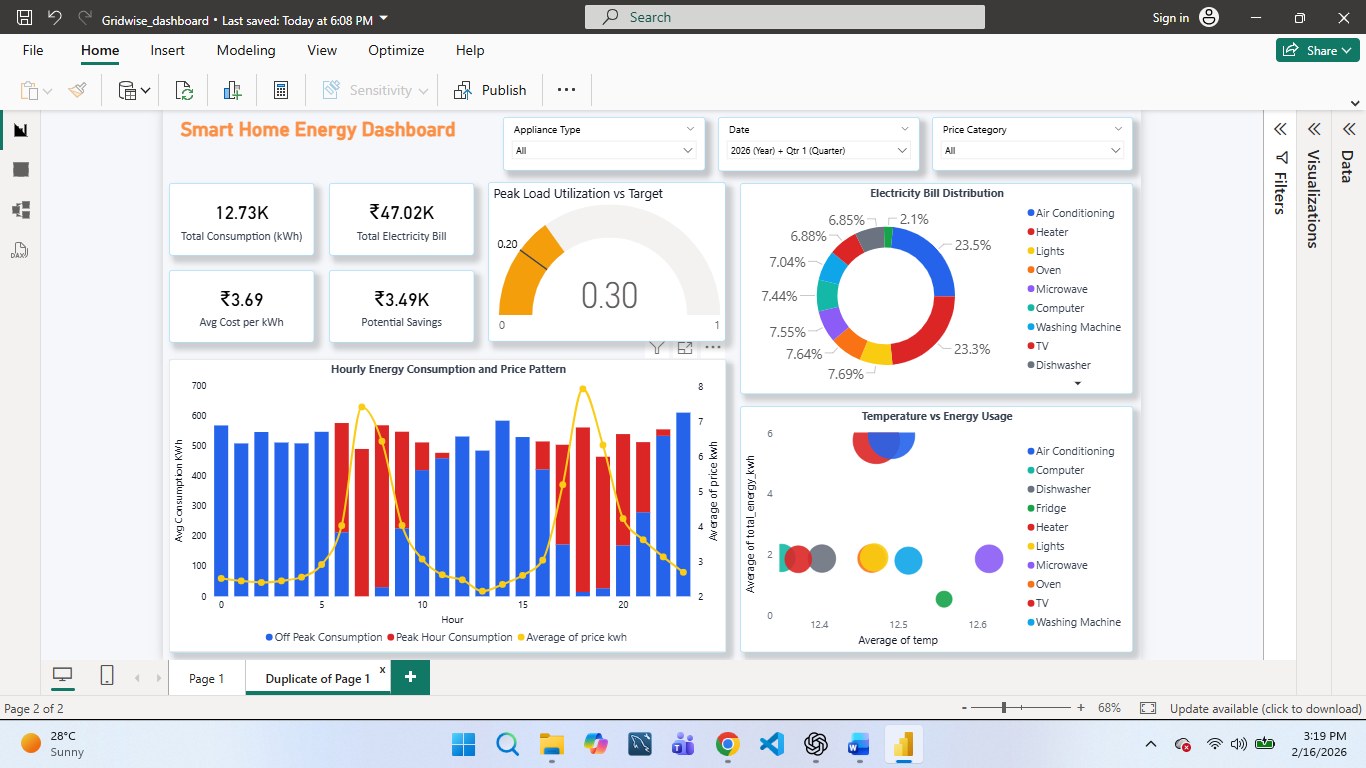

The page's visual inventory and layout, read from the dashboard file:
{"tool":"powerbi","page":{"name":"Duplicate of Page 1","canvas":[1440,810],"ordinal":1},"visuals":[{"type":"shape","box":[8.8,0,615.6,86.9],"z":0},{"type":"card","fields":{"Values":["Key Measure.Total Electricity Bill"]},"box":[243.9,107.1,214,107.1],"z":1000},{"type":"card","fields":{"Values":["Key Measure.Total Consumption"]},"box":[8.6,107.1,214.3,107.1],"z":2000},{"type":"card","fields":{"Values":["Key Measure.Potential Savings New"]},"box":[244.6,234.9,213.8,106.9],"z":3000},{"type":"textbox","box":[20.6,5.9,453.6,44.2],"z":4000},{"type":"slicer","fields":{"Values":["energy_gridwise gridwise_final_report.Appliance_Type"]},"box":[500.6,9.7,298.1,79.4],"z":5000},{"type":"lineStackedColumnComboChart","title":"Hourly Energy Consumption and Price Pattern","fields":{"Category":["energy_gridwise gridwise_final_report.hour_0_23"],"Y2":["Avg(energy_gridwise gridwise_final_report.avg_price_kwh)"],"Y":["Key Measure.Off Peak Consumption","Key Measure.Peak Hour Consumption"]},"box":[8.1,366.1,821.3,432.5],"z":6000},{"type":"donutChart","title":"Electricity Bill Distribution","fields":{"Category":["energy_gridwise gridwise_final_report.Appliance_Type"],"Y":["Sum(energy_gridwise gridwise_final_report.actual_cost_inr)"]},"box":[850,107.1,578.6,311.4],"z":7000},{"type":"gauge","title":"Peak Load Utilization vs Target","fields":{"Y":["Key Measure.Peak Load %"],"MaxValue":["Key Measure.Max Peak Load %"],"TargetValue":["Key Measure.Target peak load"]},"box":[479,106.7,350,235],"z":8000},{"type":"scatterChart","title":"Temperature vs Energy Usage","fields":{"X":["Avg(energy_gridwise gridwise_final_report.temp)"],"Y":["Avg(energy_gridwise gridwise_final_report.total_energy_kwh)"],"Series":["energy_gridwise gridwise_final_report.Appliance_Type"],"Size":["Key Measure.Total Consumption"]},"box":[850,435.7,578.6,362.9],"z":9000},{"type":"slicer","fields":{"Values":["energy_gridwise gridwise_final_report.shifted_date.Variation.Date Hierarchy.Year","energy_gridwise gridwise_final_report.shifted_date.Variation.Date Hierarchy.Quarter","energy_gridwise gridwise_final_report.shifted_date.Variation.Date Hierarchy.Month"]},"box":[816.9,10,297.1,80],"z":14000},{"type":"card","fields":{"Values":["Key Measure.Avg Cost per kWh"]},"box":[8.1,234.9,213.8,106.9],"z":14001},{"type":"slicer","fields":{"Values":["energy_gridwise gridwise_final_report.Price Category"]},"box":[1132.4,9.7,296.5,79.4],"z":14002}]}

Visuals, with their boxes on the page's 1440x810 design canvas (x1, y1, x2, y2). These are canvas units, not pixel positions in the 1366x768 screenshot, which may show the page scaled, cropped or inside an application window:
shape: (left=9, top=0, right=624, bottom=87)
card - Key Measure.Total Electricity Bill: (left=244, top=107, right=458, bottom=214)
card - Key Measure.Total Consumption: (left=9, top=107, right=223, bottom=214)
card - Key Measure.Potential Savings New: (left=245, top=235, right=458, bottom=342)
textbox: (left=21, top=6, right=474, bottom=50)
slicer - energy_gridwise gridwise_final_report.Appliance_Type: (left=501, top=10, right=799, bottom=89)
"Hourly Energy Consumption and Price Pattern" lineStackedColumnComboChart: (left=8, top=366, right=829, bottom=799)
"Electricity Bill Distribution" donutChart: (left=850, top=107, right=1429, bottom=418)
"Peak Load Utilization vs Target" gauge: (left=479, top=107, right=829, bottom=342)
"Temperature vs Energy Usage" scatterChart: (left=850, top=436, right=1429, bottom=799)
slicer - energy_gridwise gridwise_final_report.shifted_date.Variation.Date Hierarchy.Year x energy_gridwise gridwise_final_report.shifted_date.Variation.Date Hierarchy.Quarter: (left=817, top=10, right=1114, bottom=90)
card - Key Measure.Avg Cost per kWh: (left=8, top=235, right=222, bottom=342)
slicer - energy_gridwise gridwise_final_report.Price Category: (left=1132, top=10, right=1429, bottom=89)
